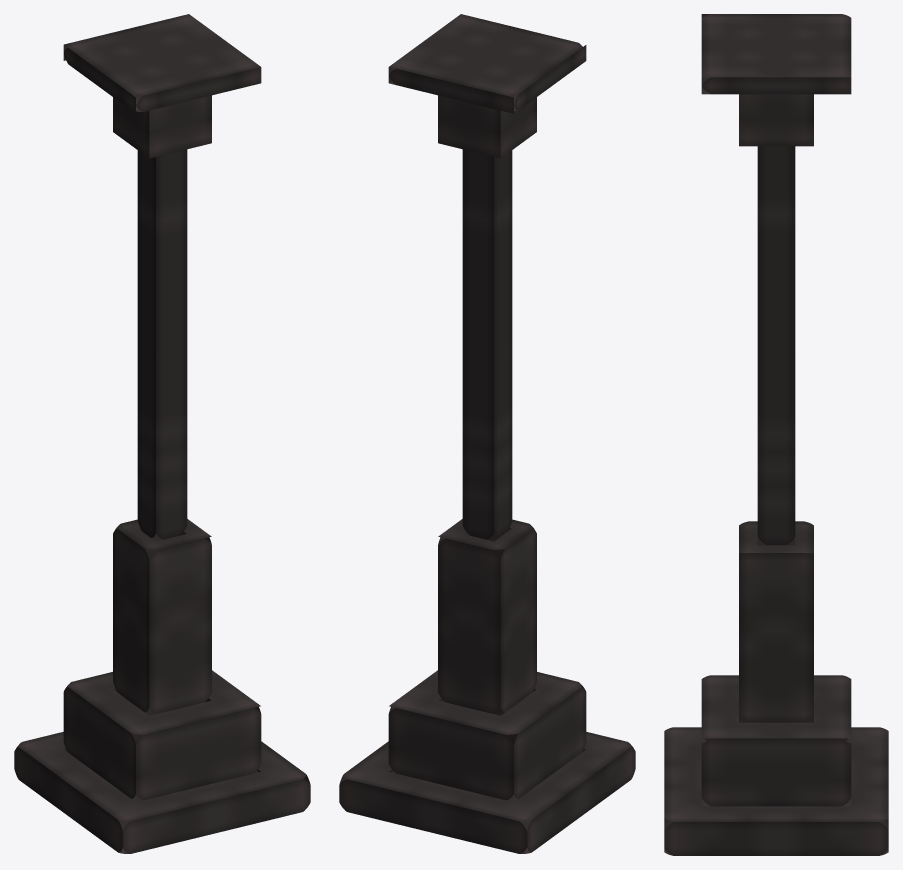
Rendered from Post_Stand.fbx.
3 views of the same model, side by side, from view 1: azimuth 30°, elevation 25°; view 2: azimuth 150°, elevation 25°; view 3: azimuth 270°, elevation 25° (orthographic). The views are drawn at different scales.
Visible parts, largest first — view 1: Post_Stand; view 2: Post_Stand; view 3: Post_Stand.
Boxes of the visible parts, left/top/right/bottom form: Post_Stand: left=14, top=14, right=310, bottom=853; Post_Stand: left=339, top=14, right=635, bottom=853; Post_Stand: left=664, top=14, right=888, bottom=855.
Bounding box in the file's own units: 75 × 281 × 75.
1 material, 1 textured.
